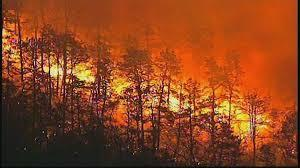fire: (1, 23, 277, 154)
